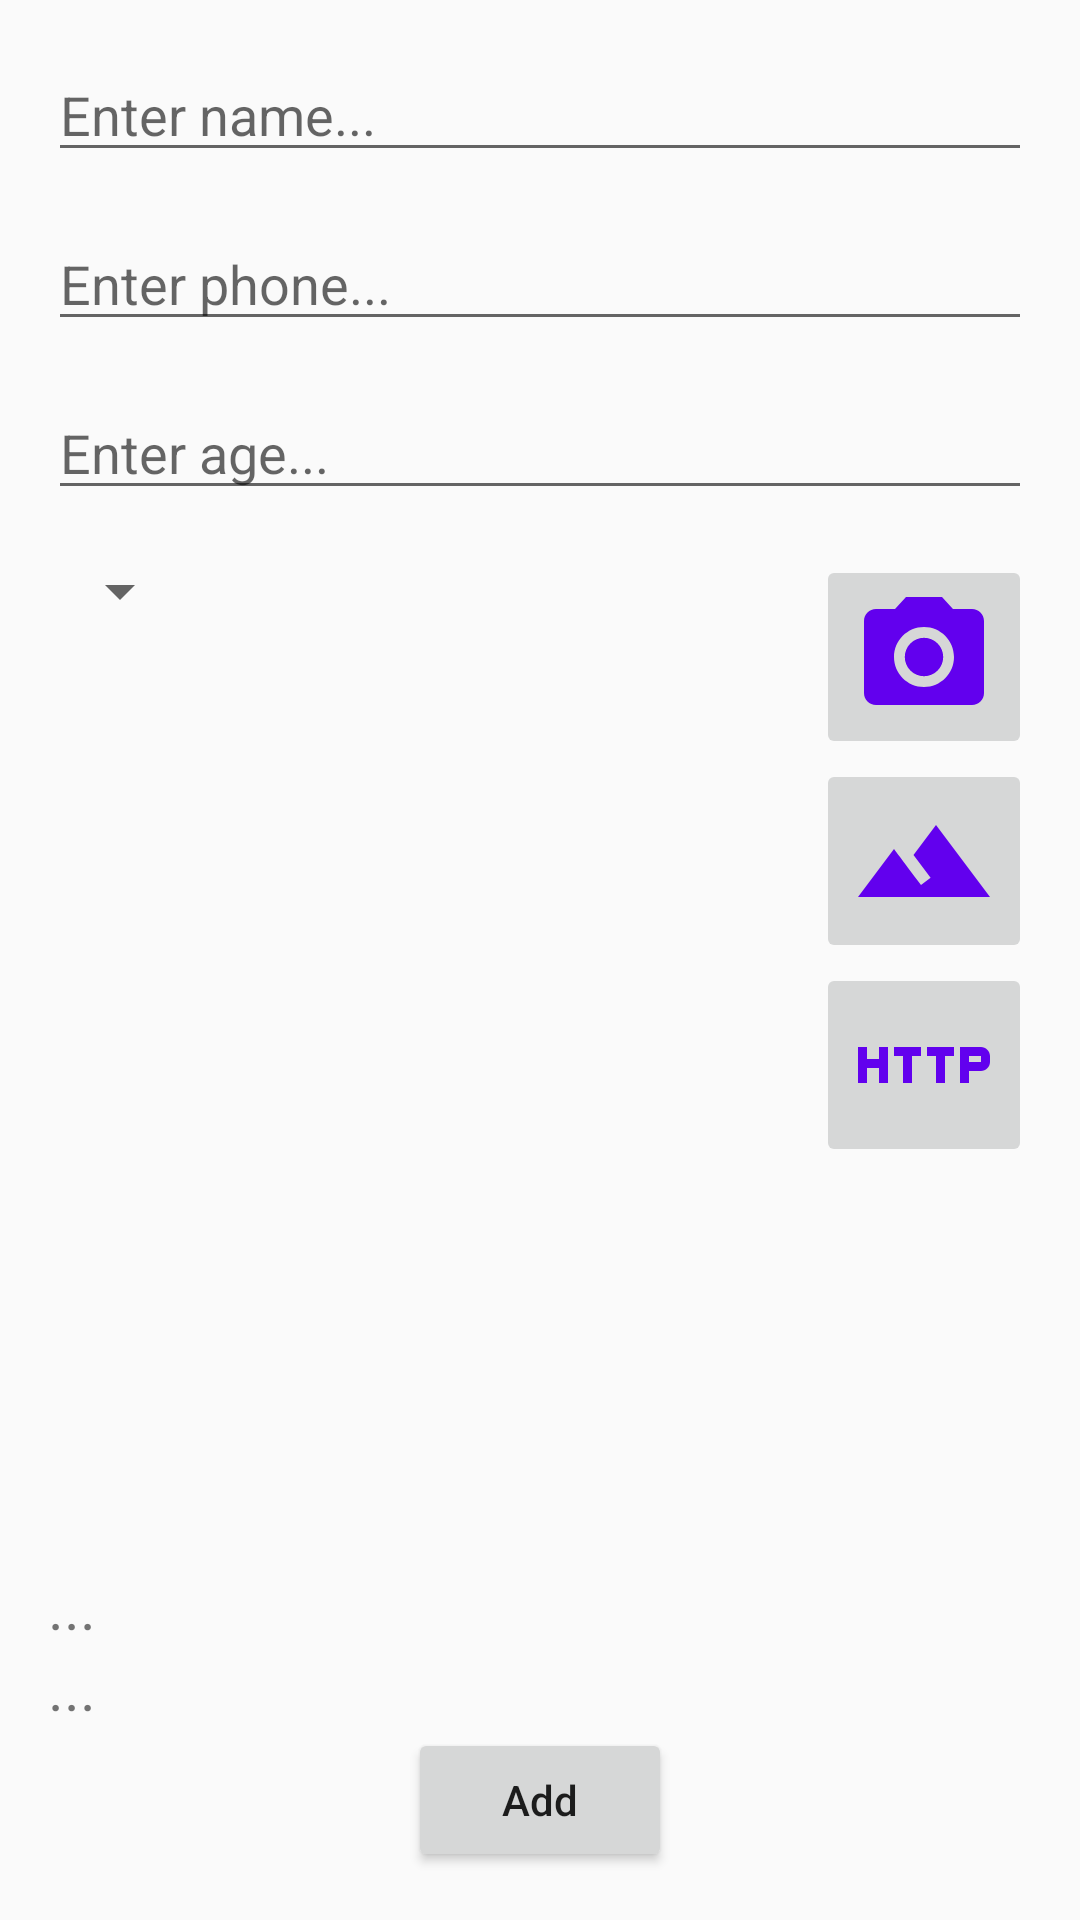

Locate icon controls on the screen. Image size 1080*1920, boxes as (x1, y1, x2, y2).
camera: (828, 573, 1020, 741)
gallery: (828, 777, 1020, 945)
